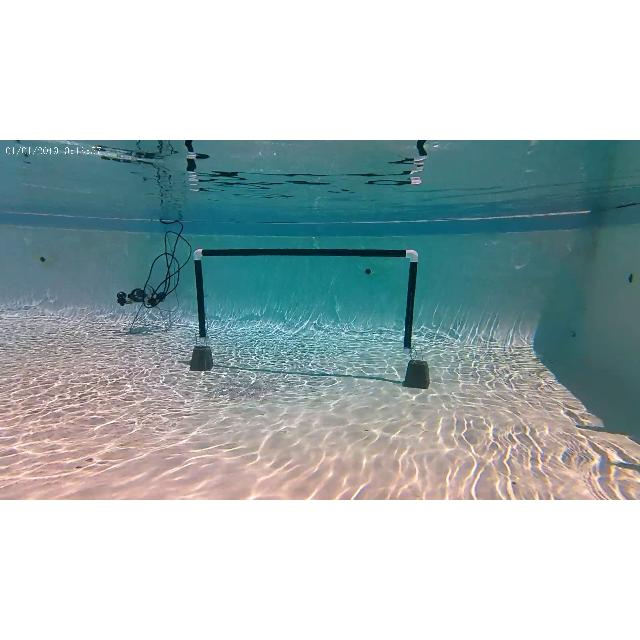prequal gate: (194, 248, 420, 344)
prequal gate leg l: (189, 248, 213, 340)
prequal gate leg r: (402, 246, 422, 350)
